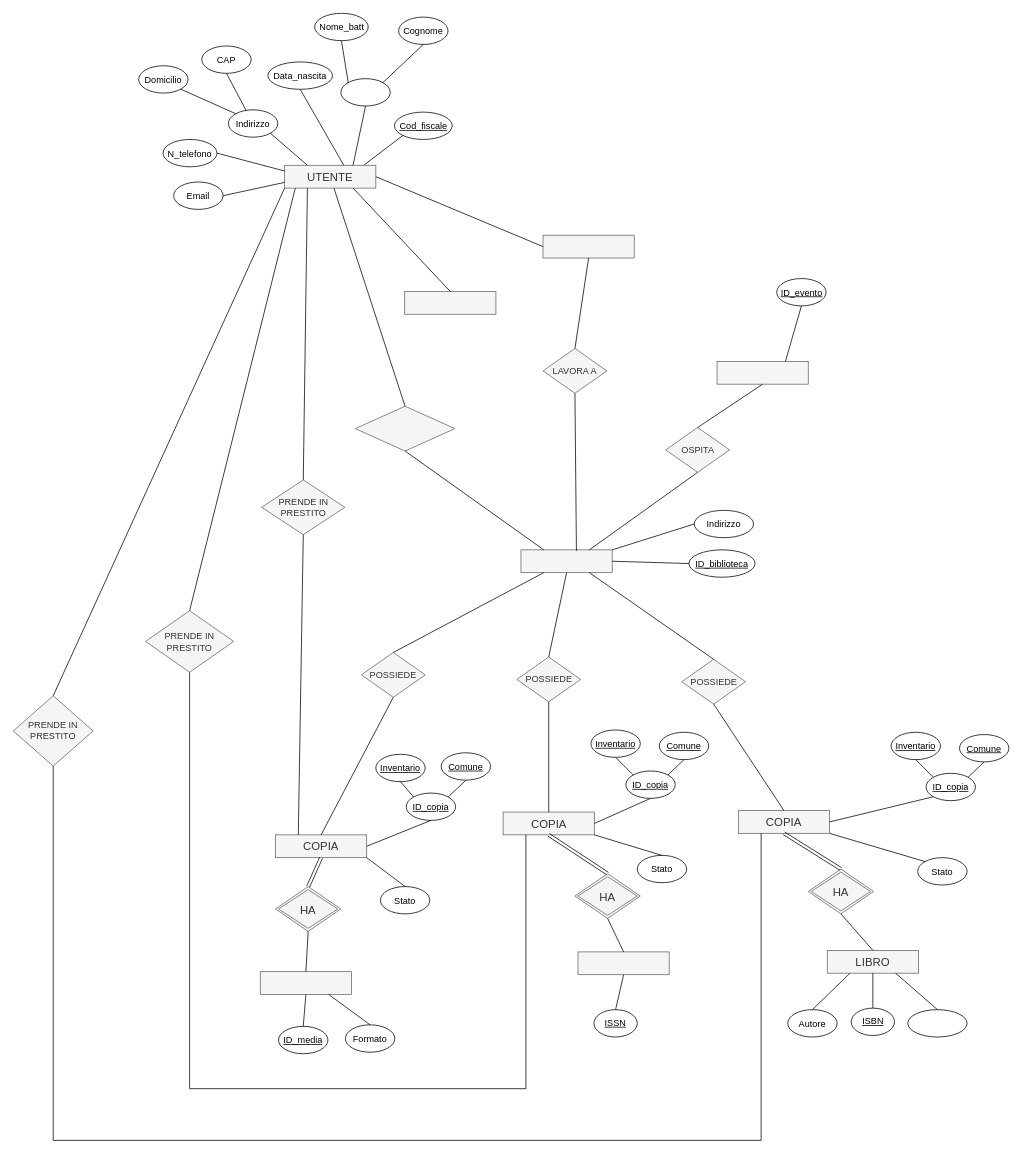
Some shapes in this 1022 by 1154 pixel diagram are drawn without their labels. Each missing label, with the centre of its shape:
"BIBLIOTECA" belongs at [566,561].
"BIBLIOTECARIO" belongs at [588,246].
"CATALOGATORE" belongs at [450,302].
"Cod_Dewey" belongs at [937,1023].
"EVENTO" belongs at [762,372].
"GIORNALE" belongs at [623,963].
"MULTIMEDIALE" belongs at [306,982].
"Nome" belongs at [365,92].
"REGISTRATO A" belongs at [405,428].
